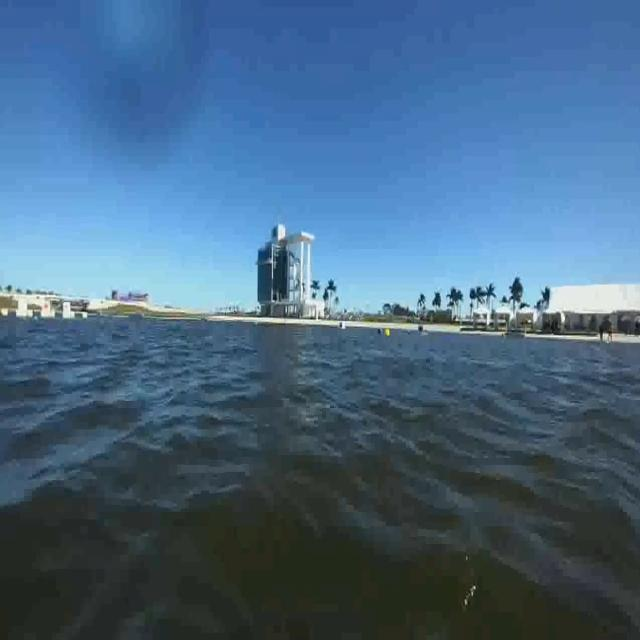yellow-buoy: (385, 327, 392, 338)
